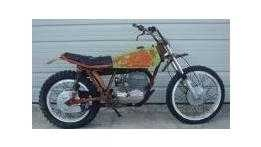motorcycle: (39, 25, 225, 128)
